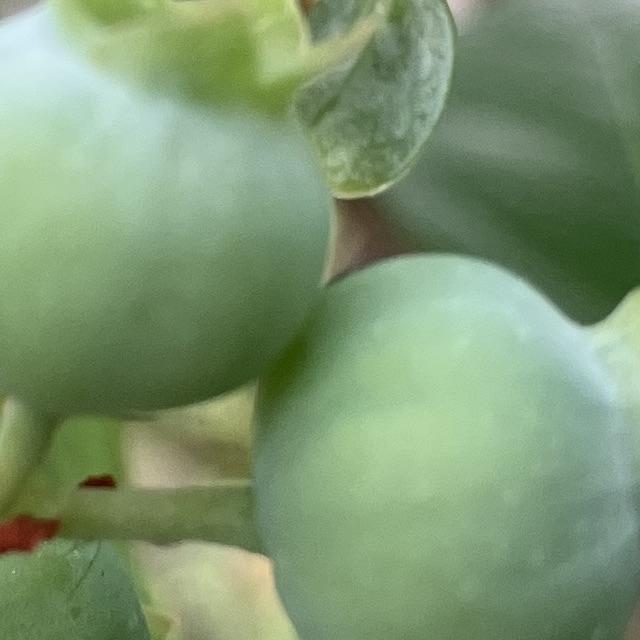Blueberries: (0, 0, 383, 420), (239, 248, 640, 640)
